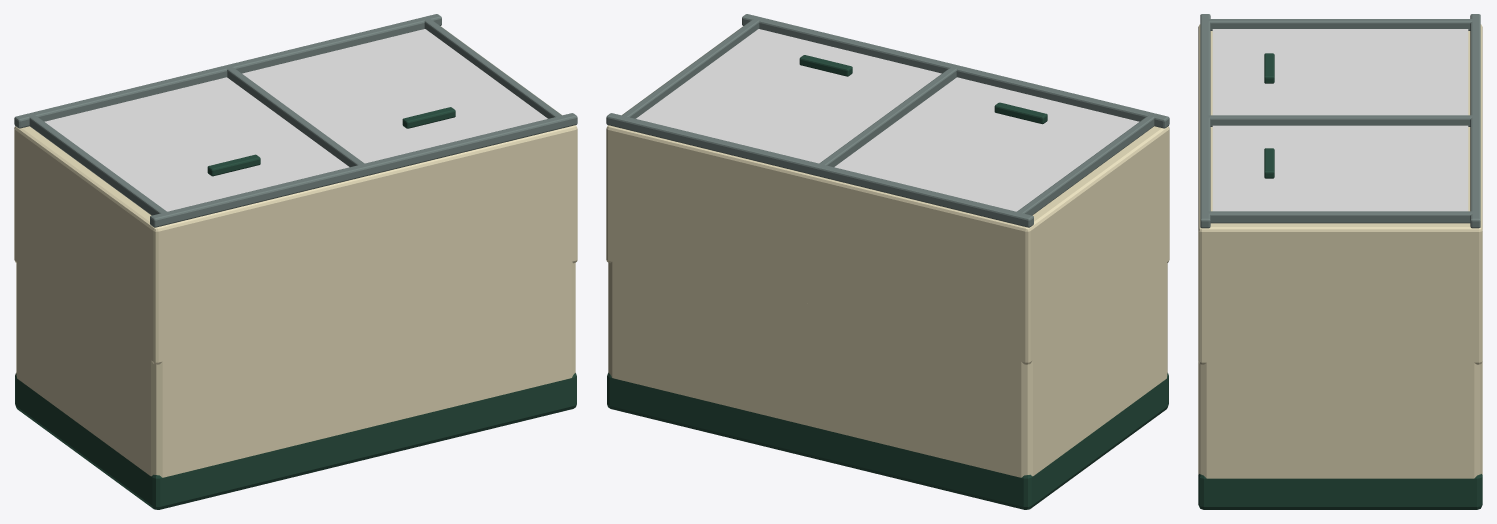
Rendered from chest_freezer.fbx.
3 views of the same model, side by side, from view 1: azimuth 30°, elevation 25°; view 2: azimuth 150°, elevation 25°; view 3: azimuth 270°, elevation 25° (orthographic).
Parts seen in each view (by area): view 1: chest_freezer; view 2: chest_freezer; view 3: chest_freezer.
Boxes of the visible parts, x1=… form: chest_freezer: x1=14, y1=14, x2=577, y2=509; chest_freezer: x1=606, y1=14, x2=1169, y2=509; chest_freezer: x1=1198, y1=14, x2=1482, y2=509.
Bounding box in the file's own units: 103 × 69.1 × 60.
